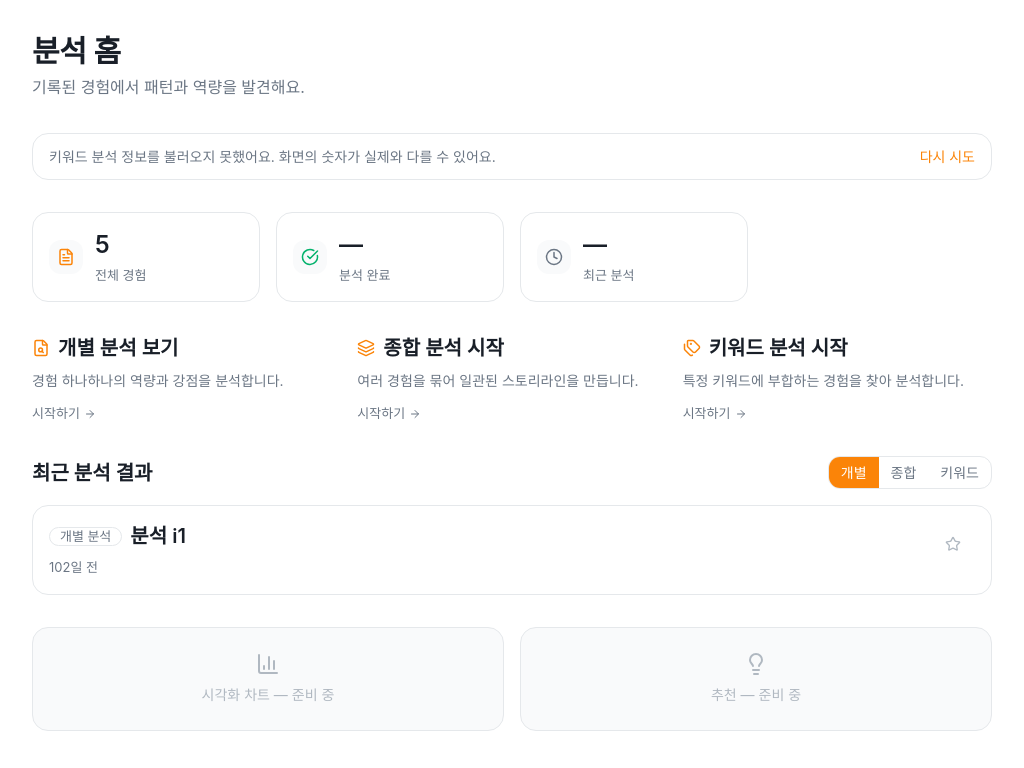
Test: 분석 홈 — 부분 실패 안내 (FRT-169) › 실패한 유형의 탭에서 '아직 분석 결과가 없습니다'로 위장하지 않는다
What coordinates should you click on to do the following:
click the tab "키워드"
I would click on:
 (960, 473)
Its box is [928,457,991,488].
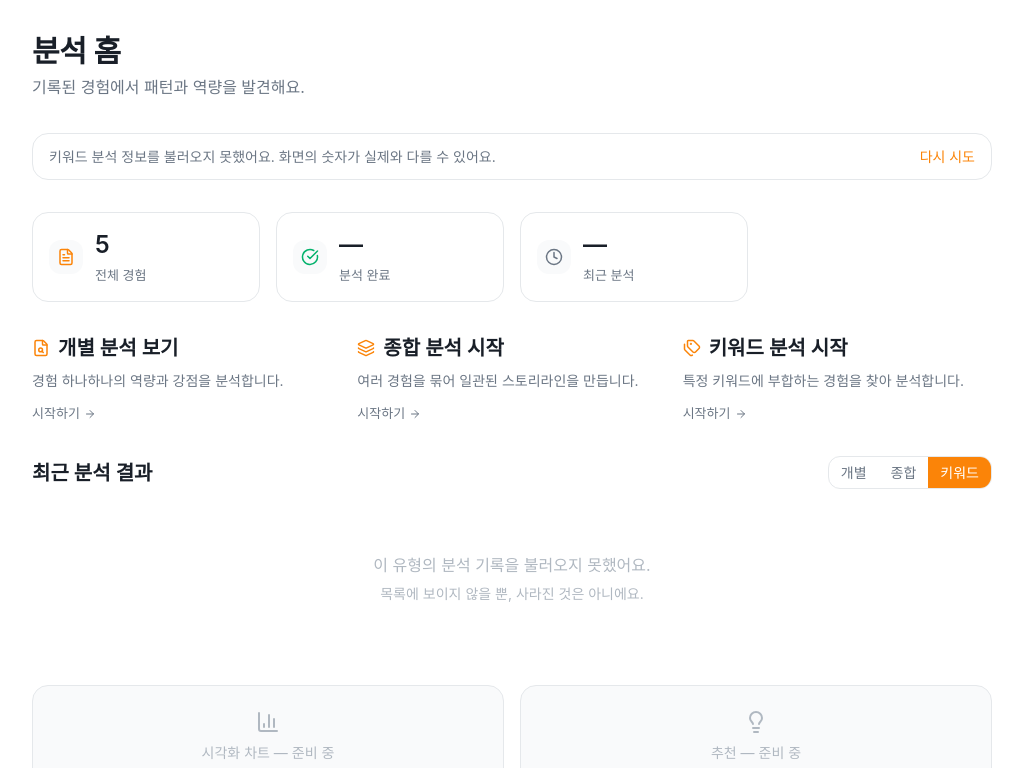
Expected: the text "이 유형의 분석 기록을 불러오지 못했어요." is shown, [373,556,651,576]
